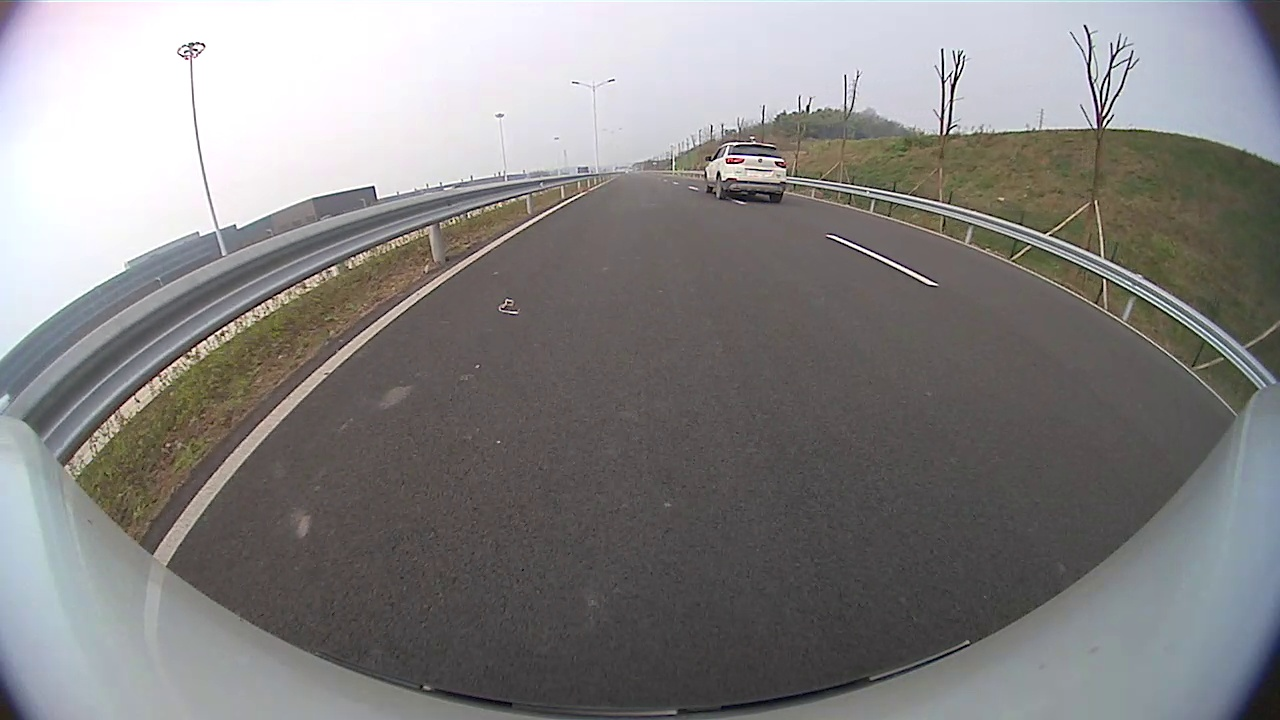car: (703, 141, 788, 203)
rear: (714, 174, 726, 201)
